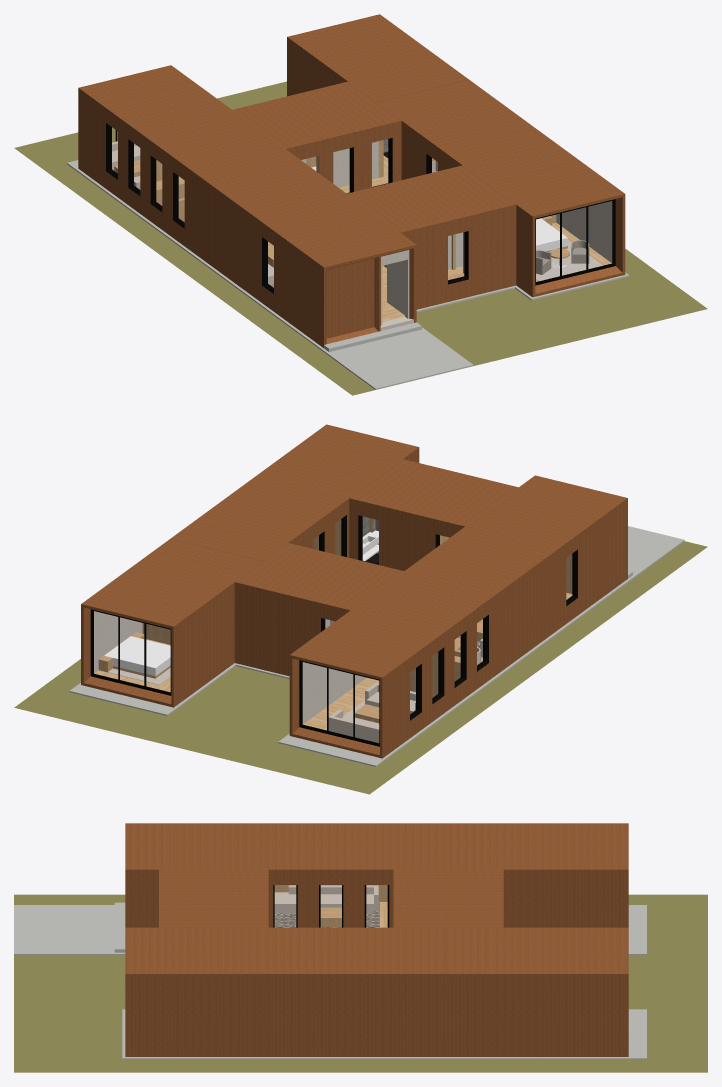
The model's file is 自建住宅200㎡住3~4人(自然风-渲染-贴图）.obj.
3 renders of one model, top to bottom at view 1: azimuth 30°, elevation 25°; view 2: azimuth 150°, elevation 25°; view 3: azimuth 270°, elevation 25°, orthographic. The views are drawn at different scales.
Visible parts, largest first — view 1: Mesh169 Group188 Group1 Model, Mesh162 Group180 Group1 Model, Mesh124 Group137 Group136 Group1 Model, Mesh136 Group152 Group1 Model, Mesh151 Group169 Group1 Model, Mesh152 Group170 Group1 Model, Mesh153 Group171 Group1 Model, Mesh137 Group153 Group1 Model, Mesh34 Group39 Group31 Group2 Group1 Model, Mesh140 Group157 Group156 Group1 Model, Mesh149 Group167 Group1 Model, Mesh150 Group168 Group1 Model (+24 smaller); view 2: Mesh169 Group188 Group1 Model, Mesh140 Group157 Group156 Group1 Model, Mesh128 Group143 Group142 Group1 Model, Mesh162 Group180 Group1 Model, Mesh145 Group163 Group1 Model, Mesh167 Group186 Group1 Model, Mesh168 Group187 Group1 Model, Mesh144 Group162 Group1 Model, Mesh152 Group170 Group1 Model, Mesh161 Group179 Group1 Model, Mesh137 Group153 Group1 Model, Mesh155 Group173 Group1 Model (+22 smaller); view 3: Mesh169 Group188 Group1 Model, Mesh162 Group180 Group1 Model, Mesh139 Group155 Group1 Model, Mesh138 Group154 Group1 Model, Mesh159 Group177 Group1 Model, Mesh124 Group137 Group136 Group1 Model, Mesh128 Group143 Group142 Group1 Model, Mesh132 Group148 Group1 Model, Mesh133 Group149 Group1 Model, Mesh156 Group174 Group1 Model, Mesh157 Group175 Group1 Model, Mesh158 Group176 Group1 Model (+22 smaller).
Boxes of the visible parts, x1=… form: Mesh169 Group188 Group1 Model: x1=14, y1=81, x2=707, y2=395; Mesh162 Group180 Group1 Model: x1=67, y1=160, x2=629, y2=389; Mesh124 Group137 Group136 Group1 Model: x1=510, y1=177, x2=625, y2=297; Mesh136 Group152 Group1 Model: x1=301, y1=228, x2=416, y2=347; Mesh151 Group169 Group1 Model: x1=424, y1=165, x2=516, y2=294; Mesh152 Group170 Group1 Model: x1=385, y1=175, x2=477, y2=304; Mesh153 Group171 Group1 Model: x1=347, y1=184, x2=438, y2=309; Mesh137 Group153 Group1 Model: x1=279, y1=212, x2=393, y2=331; Mesh34 Group39 Group31 Group2 Group1 Model: x1=326, y1=250, x2=409, y2=338; Mesh140 Group157 Group156 Group1 Model: x1=78, y1=65, x2=193, y2=184; Mesh149 Group167 Group1 Model: x1=234, y1=179, x2=349, y2=298; Mesh150 Group168 Group1 Model: x1=212, y1=163, x2=326, y2=282; Mesh169 Group188 Group1 Model: x1=14, y1=541, x2=707, y2=794; Mesh140 Group157 Group156 Group1 Model: x1=289, y1=639, x2=404, y2=758; Mesh128 Group143 Group142 Group1 Model: x1=81, y1=588, x2=195, y2=707; Mesh162 Group180 Group1 Model: x1=69, y1=526, x2=684, y2=766; Mesh145 Group163 Group1 Model: x1=234, y1=543, x2=326, y2=672; Mesh167 Group186 Group1 Model: x1=312, y1=622, x2=426, y2=741; Mesh168 Group187 Group1 Model: x1=103, y1=571, x2=218, y2=690; Mesh144 Group162 Group1 Model: x1=273, y1=552, x2=365, y2=676; Mesh152 Group170 Group1 Model: x1=388, y1=468, x2=479, y2=570; Mesh161 Group179 Group1 Model: x1=334, y1=606, x2=449, y2=725; Mesh137 Group153 Group1 Model: x1=491, y1=492, x2=605, y2=611; Mesh155 Group173 Group1 Model: x1=401, y1=557, x2=516, y2=676; Mesh169 Group188 Group1 Model: x1=14, y1=894, x2=707, y2=1072; Mesh162 Group180 Group1 Model: x1=14, y1=905, x2=646, y2=1059; Mesh139 Group155 Group1 Model: x1=491, y1=927, x2=537, y2=1056; Mesh138 Group154 Group1 Model: x1=262, y1=927, x2=308, y2=1056; Mesh159 Group177 Group1 Model: x1=445, y1=927, x2=491, y2=1056; Mesh124 Group137 Group136 Group1 Model: x1=125, y1=927, x2=170, y2=1056; Mesh128 Group143 Group142 Group1 Model: x1=583, y1=927, x2=628, y2=1056; Mesh132 Group148 Group1 Model: x1=400, y1=927, x2=445, y2=1056; Mesh133 Group149 Group1 Model: x1=354, y1=927, x2=399, y2=1056; Mesh156 Group174 Group1 Model: x1=217, y1=927, x2=262, y2=1056; Mesh157 Group175 Group1 Model: x1=308, y1=927, x2=353, y2=1056; Mesh158 Group176 Group1 Model: x1=171, y1=927, x2=216, y2=1056.
Size of the model in its own units: 13800 by 3050 by 22750.
18 materials, 10 textured.
